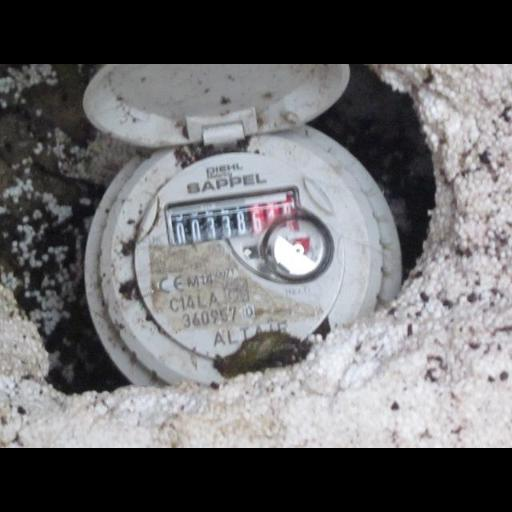0: (185, 212, 206, 245), (171, 213, 190, 246)
1: (261, 201, 283, 230)
3: (216, 209, 237, 240), (202, 209, 220, 241)
6: (247, 204, 267, 235)
8: (232, 205, 253, 237)
border_water_meter_number: (164, 186, 303, 248)
